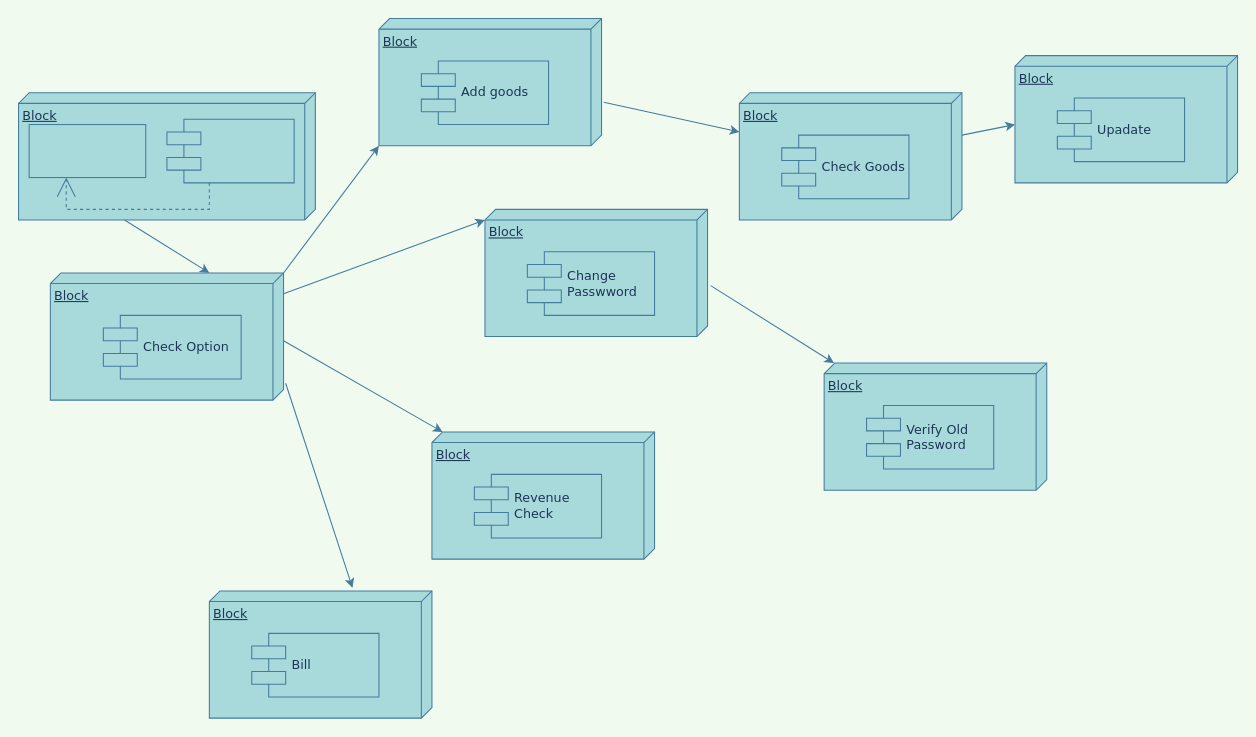
The diagram is 1256 pixels wide and 737 high, and some of its shapes have lost their labels. Here are the shapes that lost their labels. From the top down, the centre of each, then its label:
At pixel 87 150: "GUI".
At pixel 230 150: "Authenticate".
